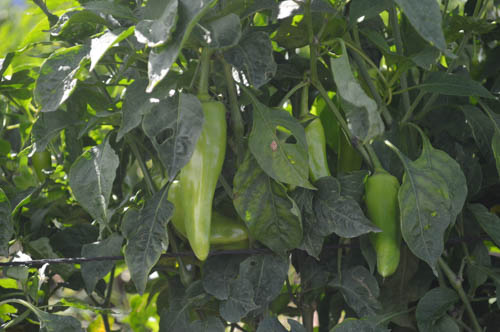ChiliPepper: (182, 102, 225, 258), (163, 184, 248, 248), (365, 175, 403, 280), (297, 117, 329, 187)
